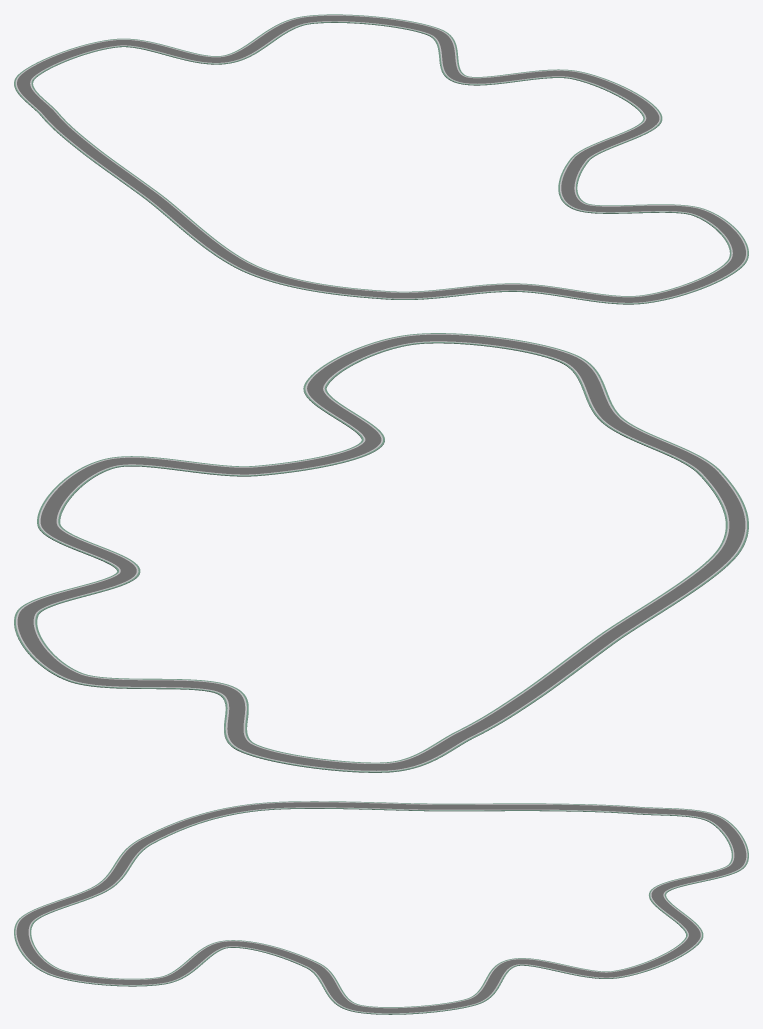
File: road_harbour_lights.glb
3 renders of one model, top to bottom at view 1: azimuth 30°, elevation 25°; view 2: azimuth 150°, elevation 25°; view 3: azimuth 270°, elevation 25°, orthographic. The views are drawn at different scales.
Parts seen in each view (by area): view 1: road; view 2: road; view 3: road.
Part boxes in pixels (box(x1,y1,x2,y2)): road: box(14, 14, 748, 304); road: box(14, 333, 748, 772); road: box(14, 801, 748, 1014).
Bounding box in the file's own units: 351 × 0.32 × 511.
